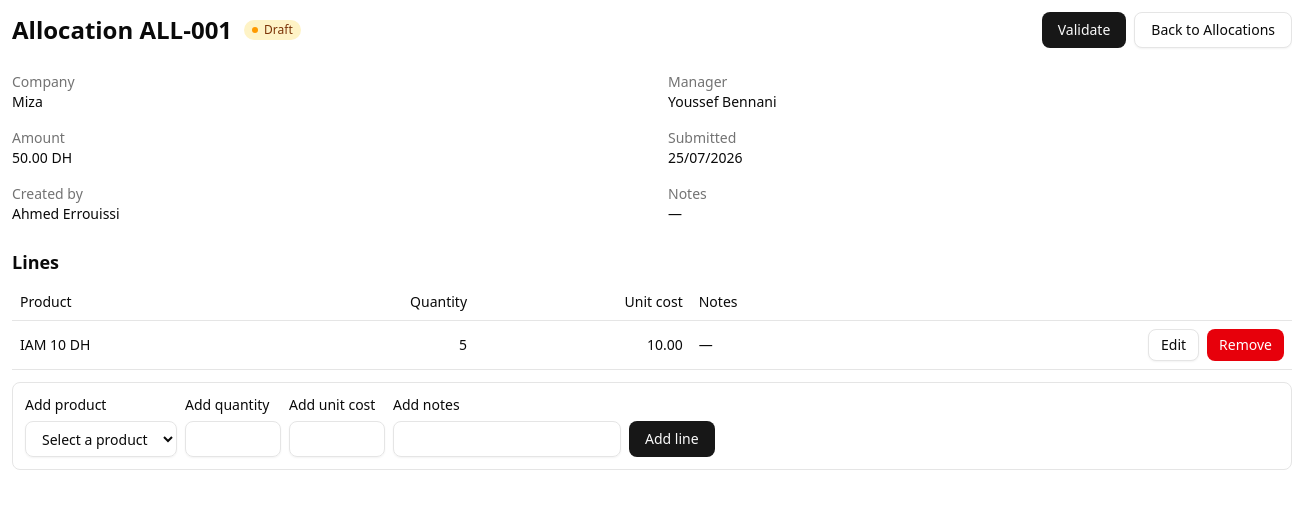
Test: removing a line › shows domain-owned copy on a stock-insufficient refusal
Click the button "Remove": (1246, 345) [1207, 329, 1284, 361]
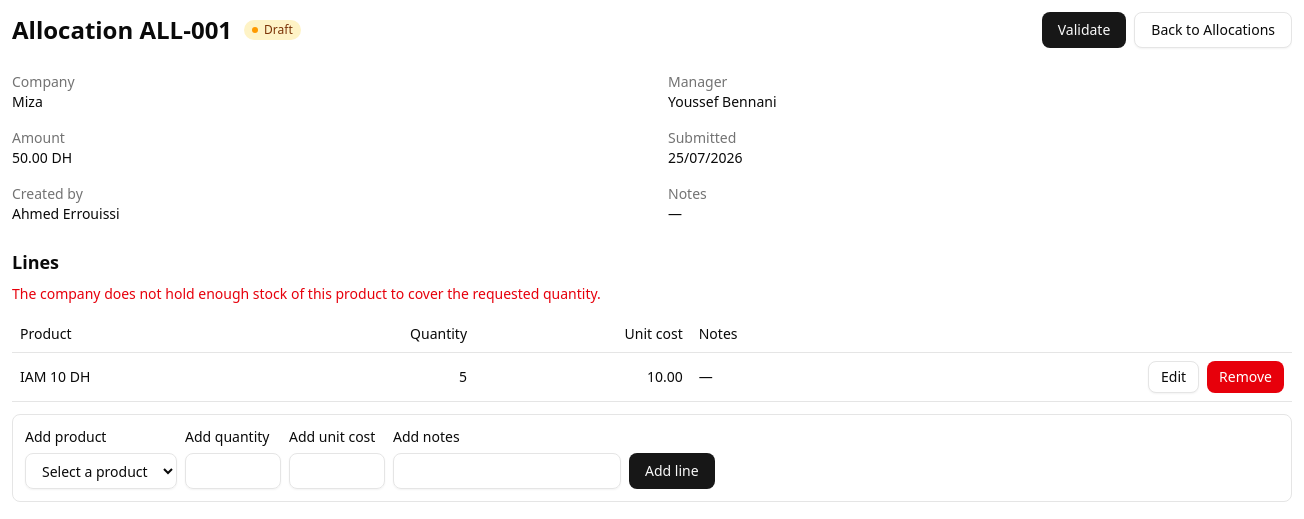
Expected: the text "The company does not hold enough stock of this product to cover the requested quantity." is shown, [12, 284, 601, 303]
